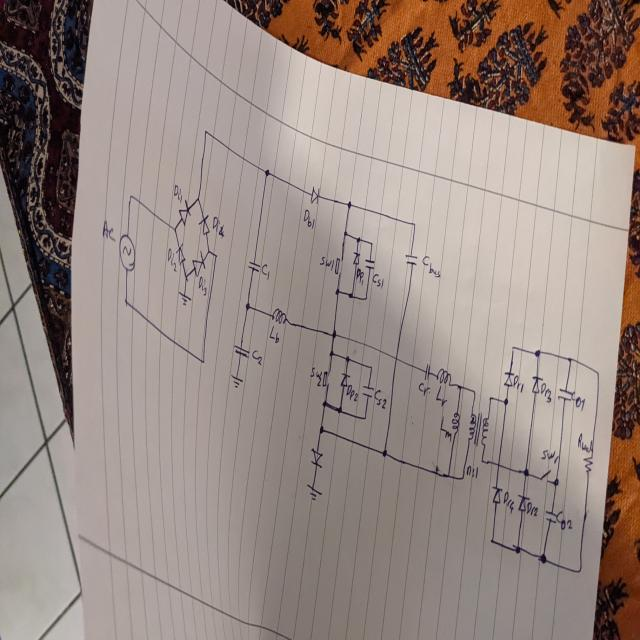capacitor: (557, 385, 573, 402), (543, 508, 558, 525), (233, 344, 250, 358), (404, 252, 419, 266), (247, 259, 260, 273), (362, 384, 374, 398), (364, 258, 376, 270), (423, 362, 430, 382)
crossover: (393, 353, 399, 362), (496, 460, 501, 468)
diode: (192, 250, 207, 276), (198, 212, 212, 236), (174, 242, 186, 268), (310, 446, 323, 469), (530, 374, 544, 395), (178, 201, 190, 223), (517, 493, 530, 513), (310, 183, 320, 206), (502, 371, 514, 388), (492, 484, 502, 504), (340, 372, 350, 388), (353, 250, 360, 268)
ground: (306, 482, 322, 502), (229, 370, 244, 389), (178, 290, 191, 308)
inductor: (436, 366, 456, 387), (272, 306, 288, 326), (452, 408, 460, 440)
junction: (539, 551, 546, 564), (522, 467, 529, 477), (534, 348, 541, 358), (264, 167, 270, 177), (334, 286, 340, 296), (346, 200, 352, 209), (344, 354, 350, 363), (331, 329, 337, 338), (245, 300, 250, 310), (382, 448, 387, 458), (503, 396, 508, 406), (515, 544, 520, 554), (128, 192, 133, 202), (349, 290, 354, 300), (184, 272, 189, 282), (342, 229, 348, 237), (319, 424, 324, 433), (203, 127, 208, 136), (553, 477, 558, 486), (337, 405, 342, 414), (172, 224, 177, 233), (460, 472, 465, 481), (195, 194, 200, 203), (457, 383, 462, 391), (329, 349, 334, 357), (200, 357, 205, 365), (510, 344, 515, 352), (577, 566, 582, 574), (489, 536, 494, 544), (322, 399, 327, 407), (356, 235, 360, 244), (124, 297, 128, 306), (369, 240, 374, 247), (568, 355, 572, 363), (412, 220, 416, 228), (596, 368, 600, 376), (488, 394, 492, 402), (368, 363, 372, 371), (472, 388, 476, 396), (446, 471, 450, 479), (480, 456, 484, 464), (214, 252, 218, 258), (207, 247, 210, 254), (363, 414, 366, 420), (364, 295, 367, 301)
resistor: (582, 453, 594, 473)
source: (118, 233, 136, 271)
switch: (539, 467, 551, 487), (335, 252, 344, 278), (322, 368, 331, 390)
text: (422, 254, 441, 279), (555, 509, 572, 531), (318, 253, 334, 274), (576, 432, 592, 453), (540, 448, 559, 465), (571, 389, 585, 412), (440, 413, 450, 444), (435, 384, 448, 407), (101, 220, 115, 241), (212, 215, 224, 238), (268, 322, 280, 344), (540, 382, 552, 404), (503, 490, 514, 514), (310, 366, 322, 387), (303, 207, 314, 229), (512, 374, 524, 394), (465, 463, 479, 480), (374, 389, 385, 409), (526, 500, 538, 518), (372, 272, 384, 290), (251, 348, 262, 366), (418, 381, 431, 396), (173, 183, 183, 202), (168, 246, 175, 270), (261, 260, 269, 280), (356, 266, 364, 286), (197, 279, 208, 293), (347, 386, 357, 400)
transformer: (467, 410, 490, 449)
